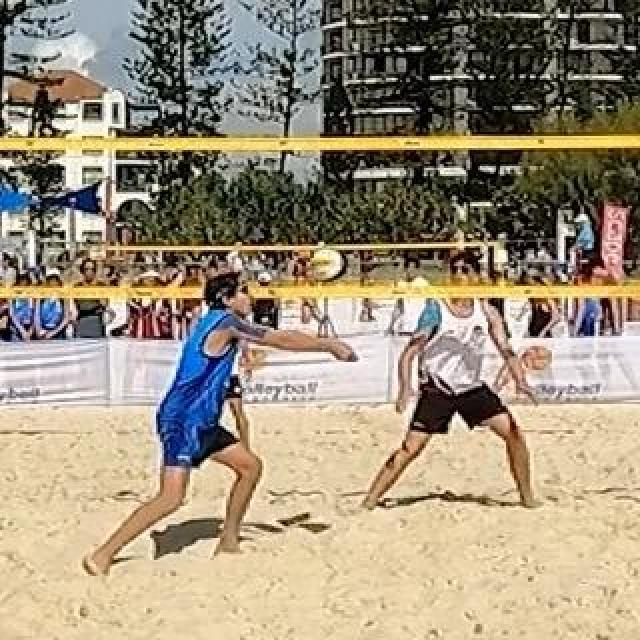volleyball: (307, 247, 347, 285)
